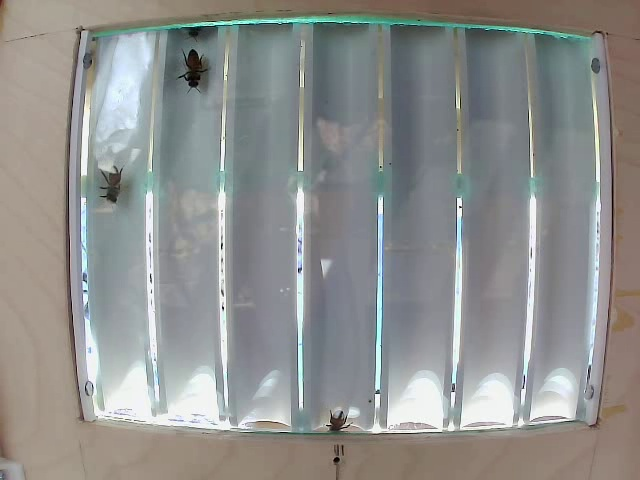bee: (84, 155, 138, 203), (163, 63, 210, 103)
